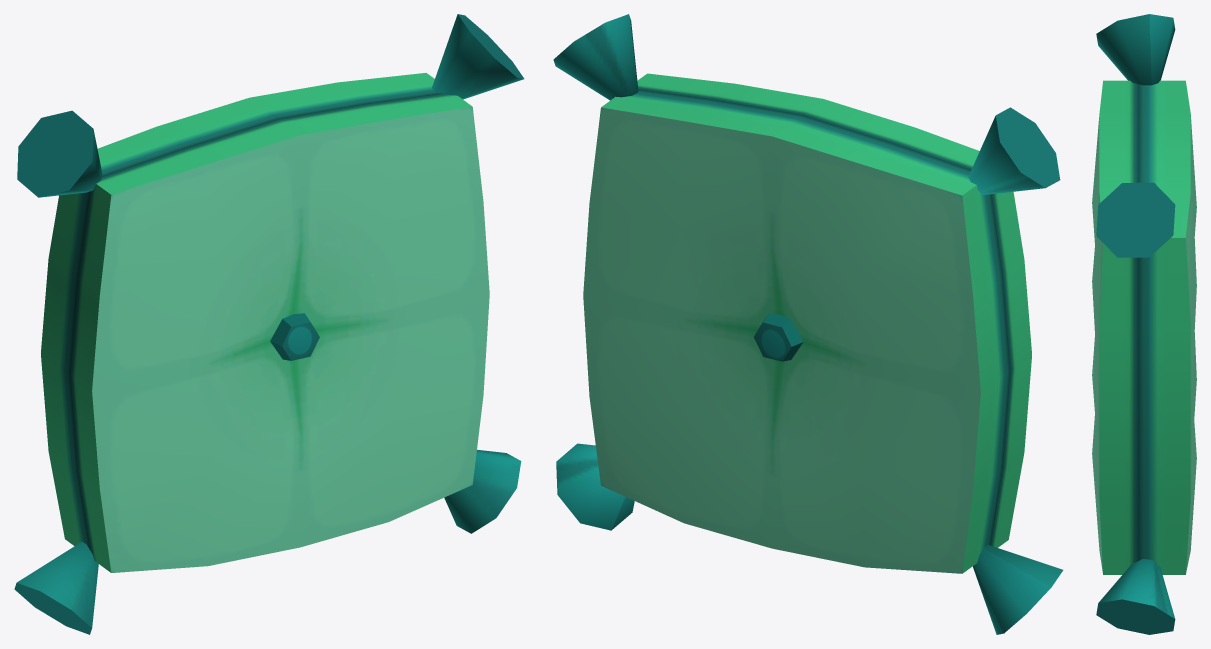
Rendered from Cushion.fbx.
3 renders of one model, left to right at view 1: azimuth 30°, elevation 25°; view 2: azimuth 150°, elevation 25°; view 3: azimuth 270°, elevation 25°, orthographic. The views are drawn at different scales.
Visible parts, largest first — view 1: Cushion; view 2: Cushion; view 3: Cushion.
Boxes of the visible parts, x1=… form: Cushion: x1=14, y1=14, x2=524, y2=634; Cushion: x1=553, y1=14, x2=1063, y2=634; Cushion: x1=1092, y1=14, x2=1196, y2=634.
Bounding box in the file's own units: 98.6 × 98.18 × 20.25.
